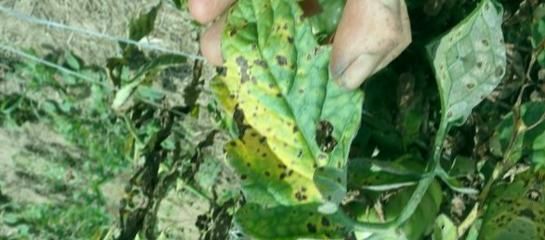Tomato Septoria leaf spot: (160, 0, 410, 240), (409, 47, 505, 135), (451, 159, 541, 240)
